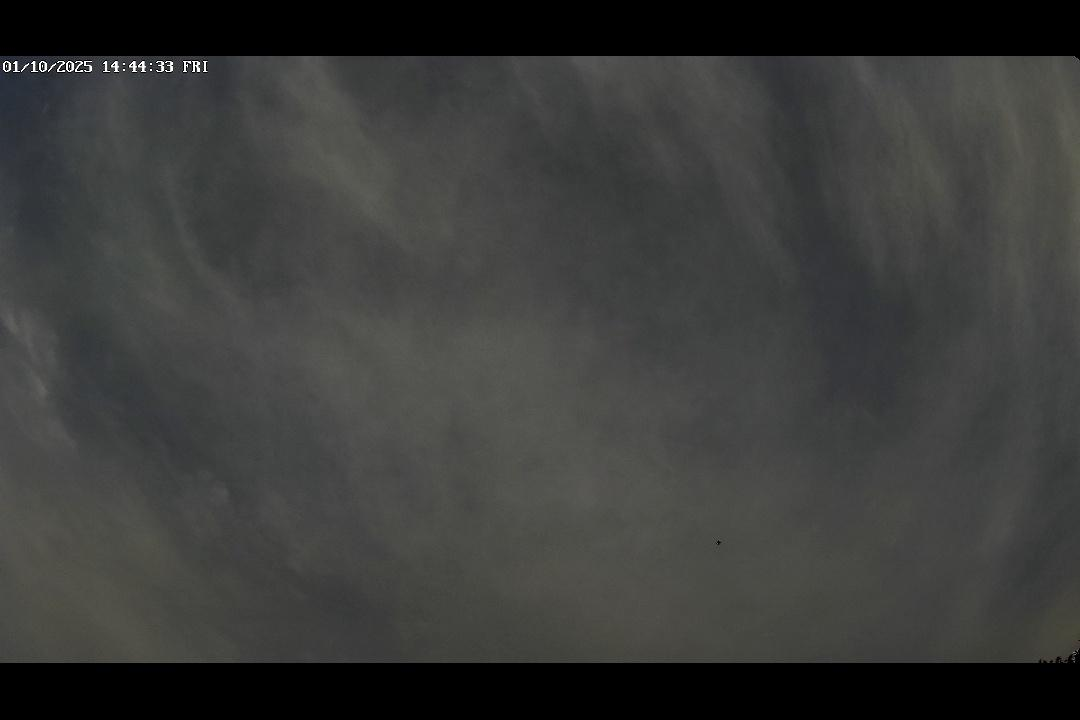Plane: (711, 538, 725, 546)
